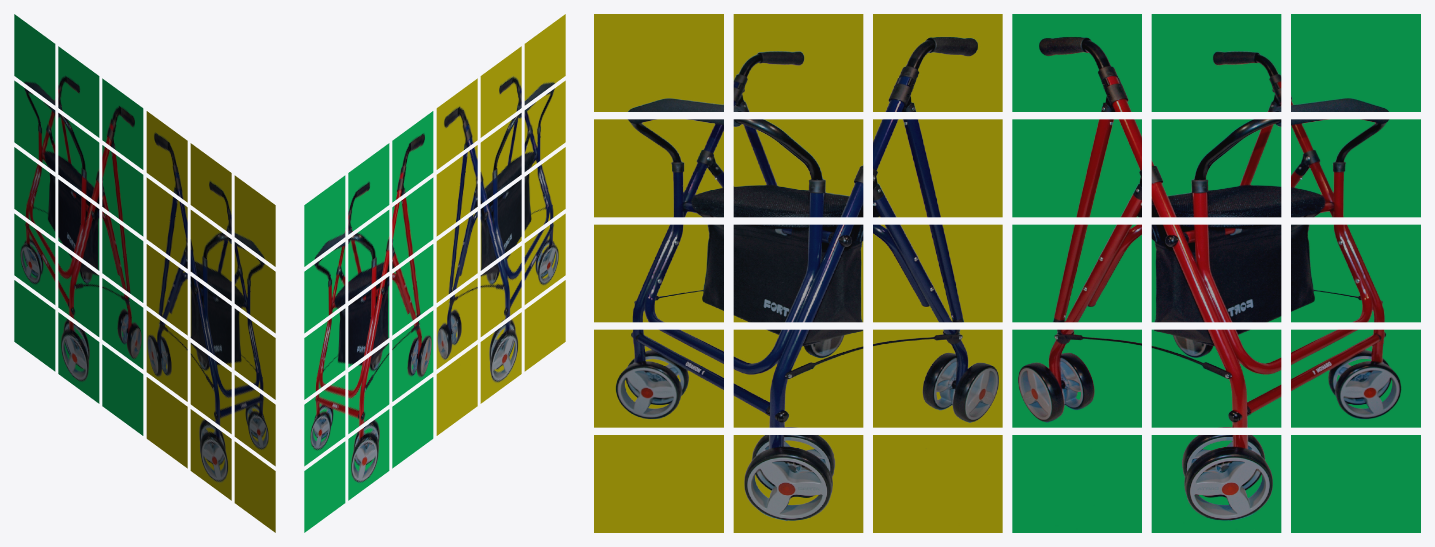
Rendered from TV_mov_4.glb.
The picture shows the model from 3 angles, left to right: view 1: azimuth 30°, elevation 25°; view 2: azimuth 150°, elevation 25°; view 3: azimuth 270°, elevation 25°; orthographic projection. The views are drawn at different scales.
Visible parts, largest first — view 1: 2, 1; view 2: 2, 1; view 3: 2, 1.
Boxes of the visible parts, left/top/right/bottom form: 2: left=14, top=14, right=143, bottom=435; 1: left=146, top=111, right=275, bottom=532; 2: left=304, top=111, right=433, bottom=532; 1: left=436, top=14, right=565, bottom=435; 2: left=1012, top=14, right=1420, bottom=532; 1: left=594, top=14, right=1002, bottom=532.
Size of the model in its own units: 1.27e-07 by 8.82 by 12.74.
2 materials, 2 textured.
